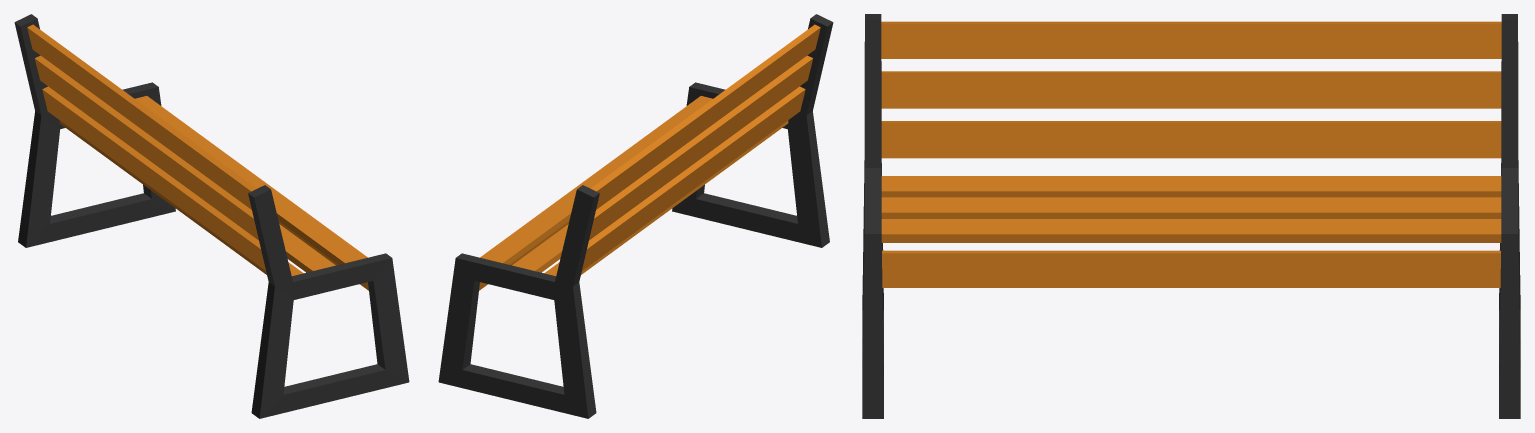
Rendered from bench.fbx.
3 renders of one model, left to right at view 1: azimuth 30°, elevation 25°; view 2: azimuth 150°, elevation 25°; view 3: azimuth 270°, elevation 25°, orthographic. The views are drawn at different scales.
Visible parts, largest first — view 1: Cube.005; view 2: Cube.005; view 3: Cube.005.
Part boxes in pixels (<box>): Cube.005: <box>14,14,409,418</box>; Cube.005: <box>438,14,833,418</box>; Cube.005: <box>862,14,1520,418</box>.
Bounding box in the file's own units: 38.43 × 53.7 × 104.
